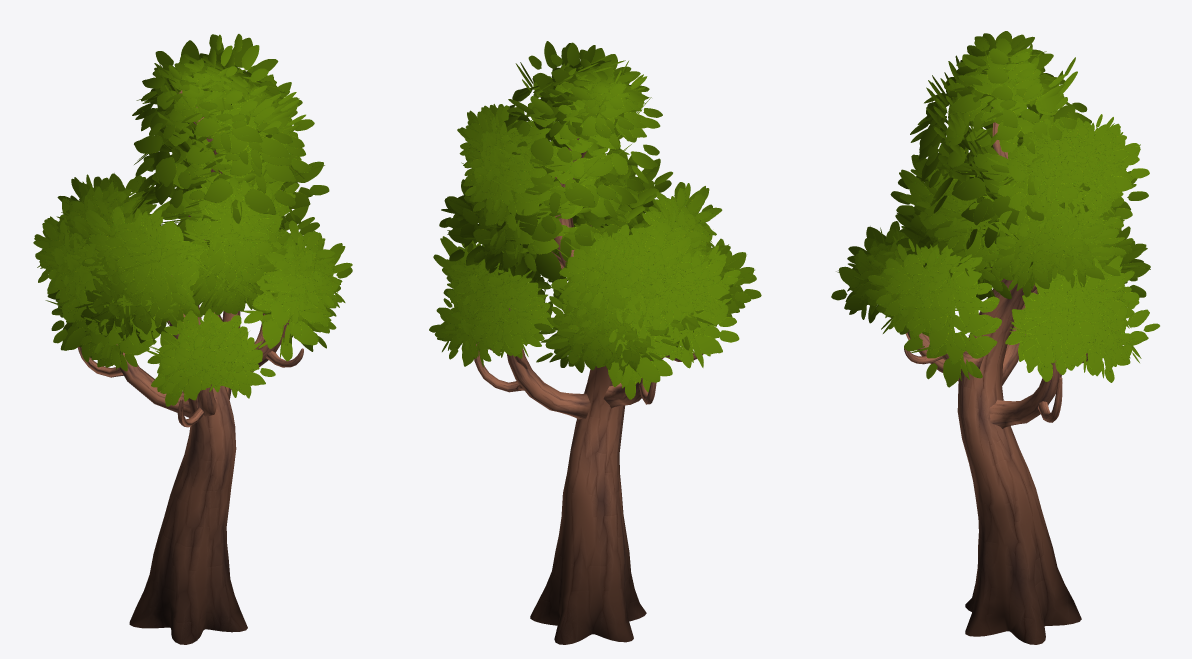
The model's file is CommonTree_2.gltf.
3 views of the same model, side by side, from view 1: azimuth 30°, elevation 25°; view 2: azimuth 150°, elevation 25°; view 3: azimuth 270°, elevation 25° (orthographic). The views are drawn at different scales.
Parts seen in each view (by area): view 1: CommonTree_2; view 2: CommonTree_2; view 3: CommonTree_2.
Part boxes in pixels (bbox=[...]): CommonTree_2: bbox=[33, 34, 352, 644]; CommonTree_2: bbox=[429, 41, 761, 644]; CommonTree_2: bbox=[831, 31, 1159, 644].
Bounding box in the file's own units: 4.46 × 7.64 × 4.28.
2 materials, 2 textured.
